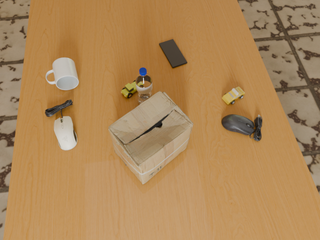bottle: (135, 68, 152, 104)
box: (108, 91, 193, 184)
cup: (46, 58, 78, 90)
mouse: (222, 114, 262, 141), (54, 116, 77, 150)
phone: (159, 39, 187, 68)
toy_car: (222, 87, 245, 104), (121, 80, 137, 98)
